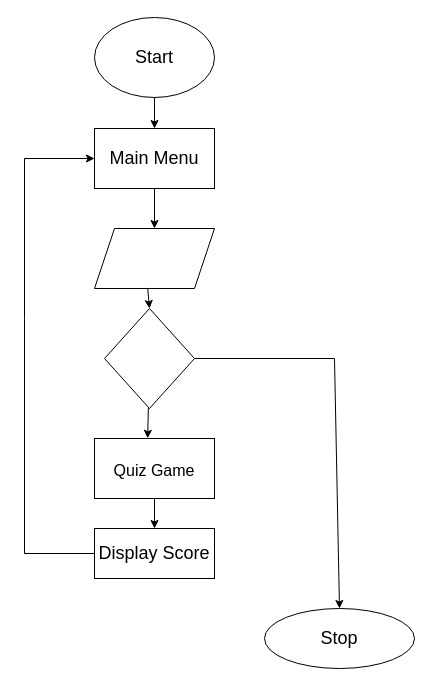
This 432x686 diagram has some shape labels left out. The shapes that lost their labels are listed below. From the top down, each one's centre as x and y in pixels, then its label:
At point (154, 258): "User Input".
At point (149, 358): "Start or Quit".
